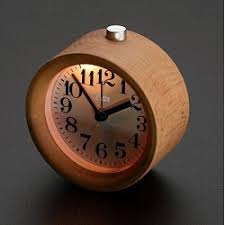alarm_clock: (24, 24, 191, 189), (26, 24, 191, 189), (26, 28, 191, 189)
